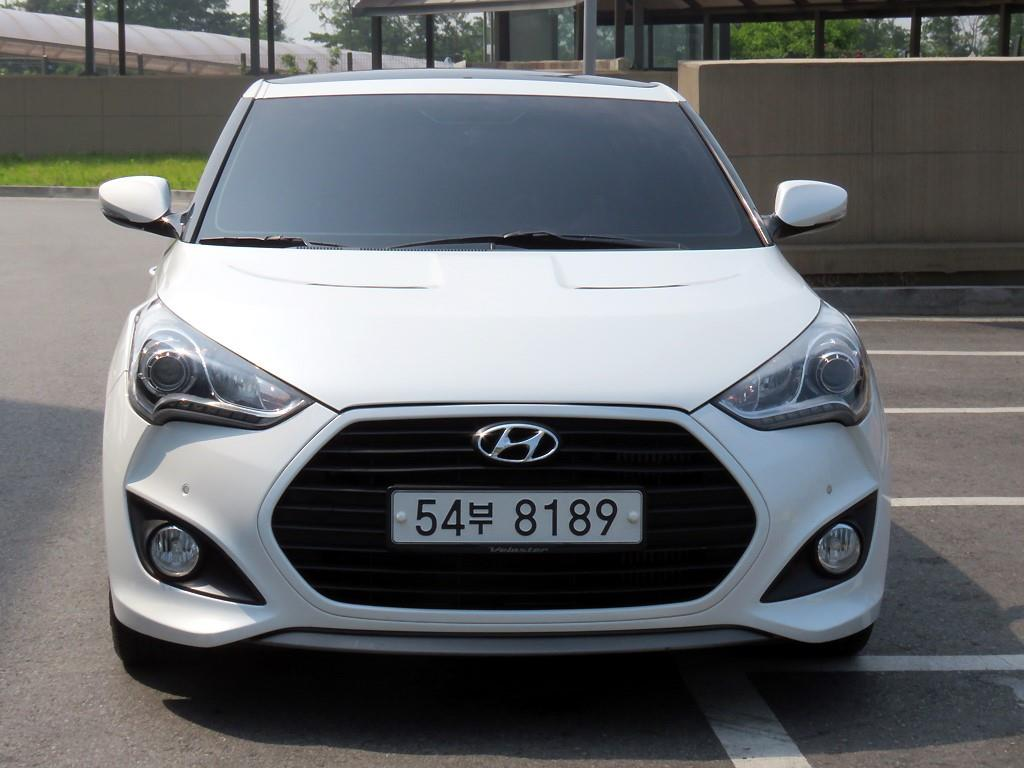plate: (391, 492, 639, 545)
